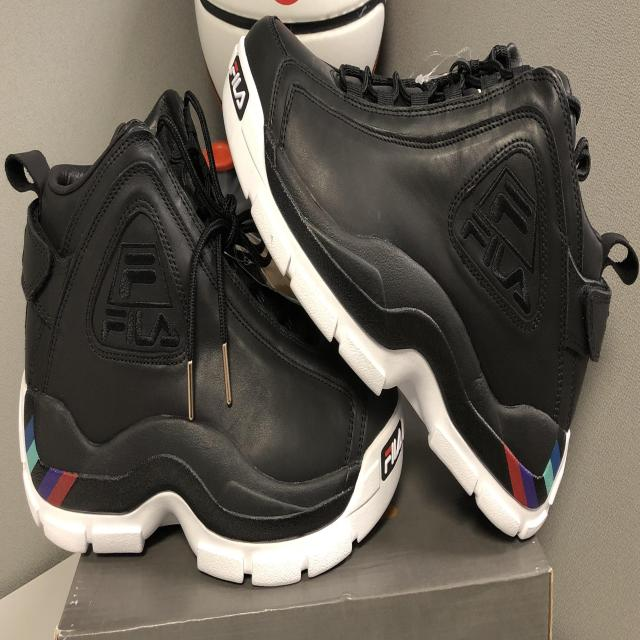shoe: (220, 12, 640, 550), (3, 77, 410, 594)
